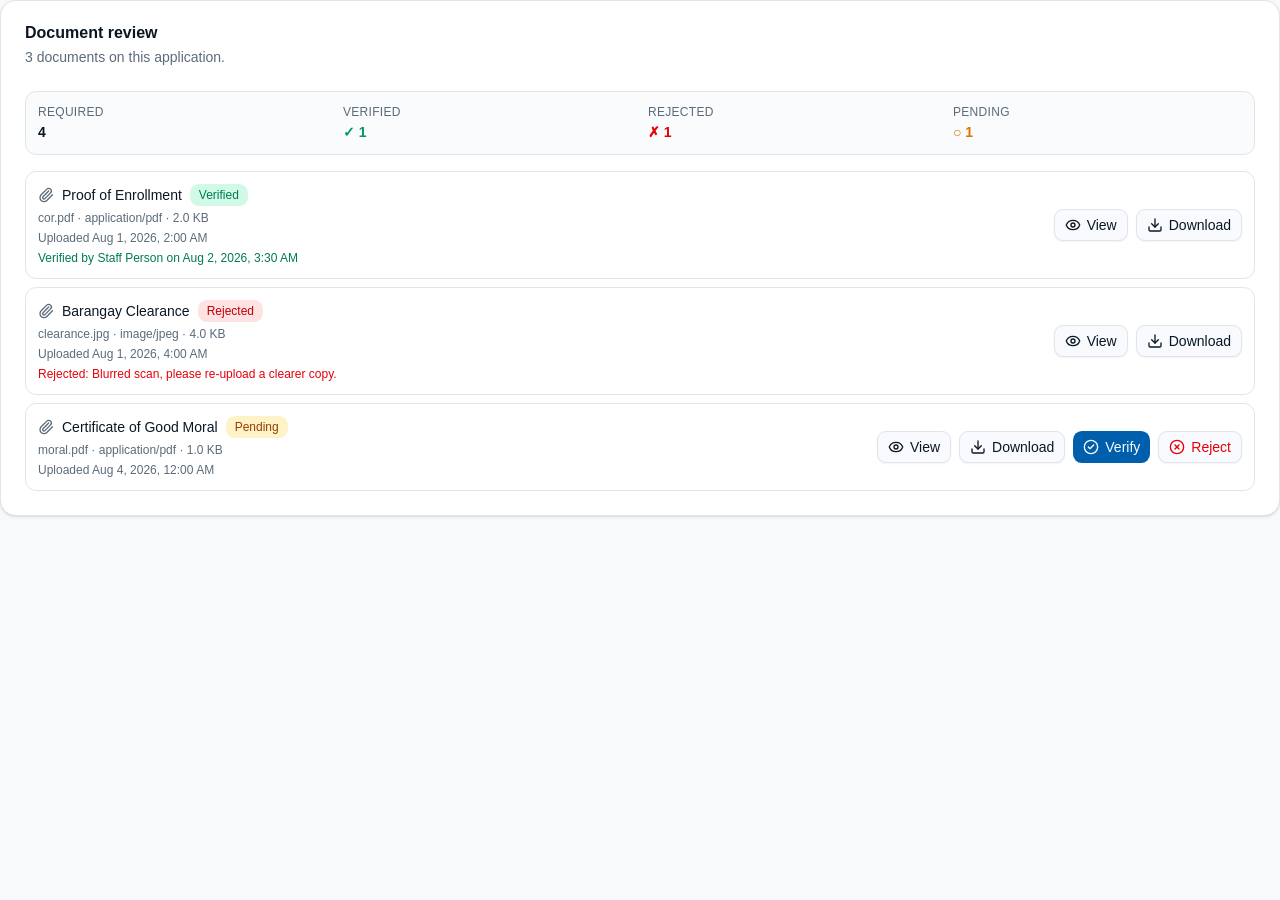
Test: DocumentReview › verify flow › verifies a document and reloads
Click the button "Verify" at (1112, 447), box [1073,431,1150,463]
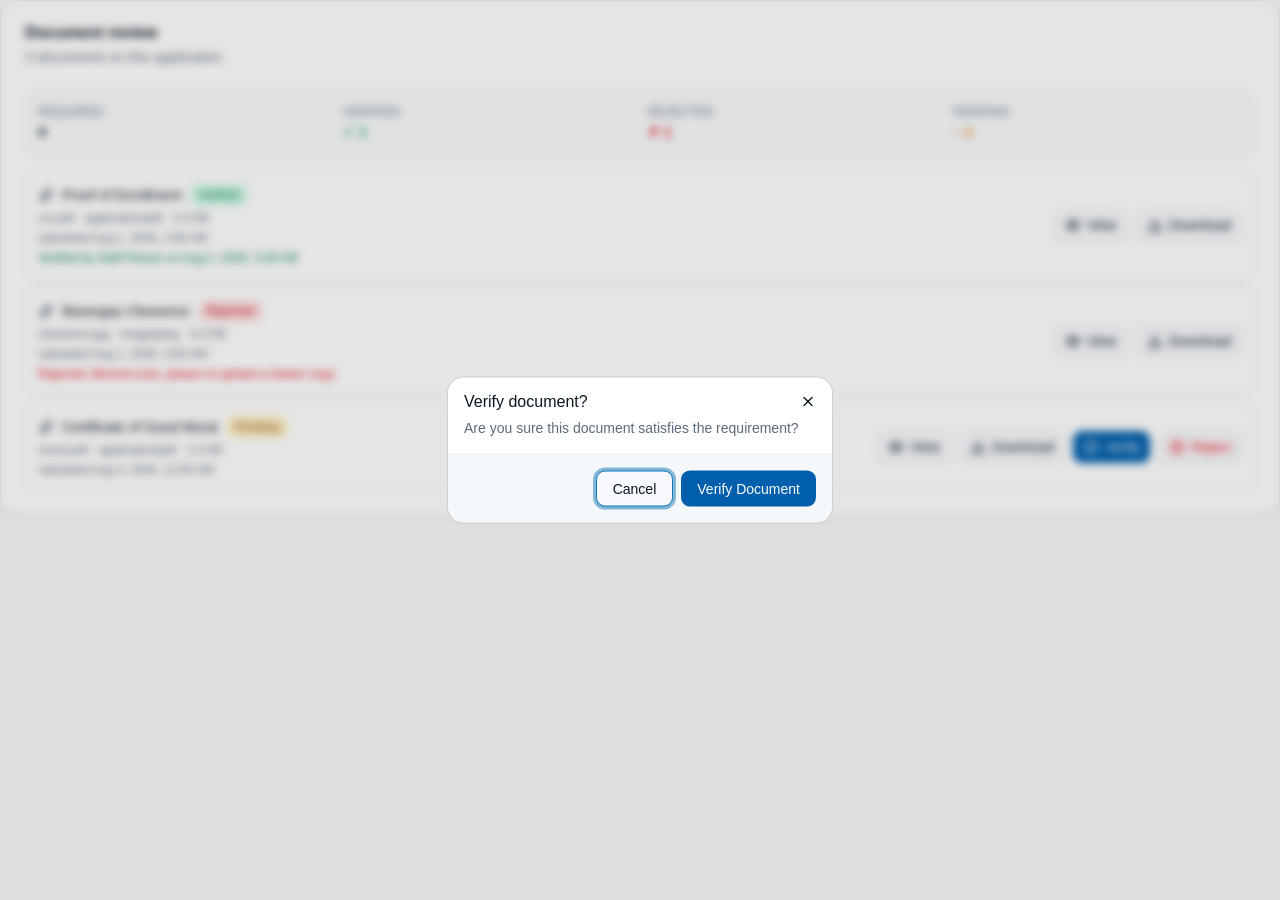
Check: the heading "Verify document?" is shown, box [464,392,588,410]
Click the button "Verify Document" at (749, 488), box [681,470,816,506]
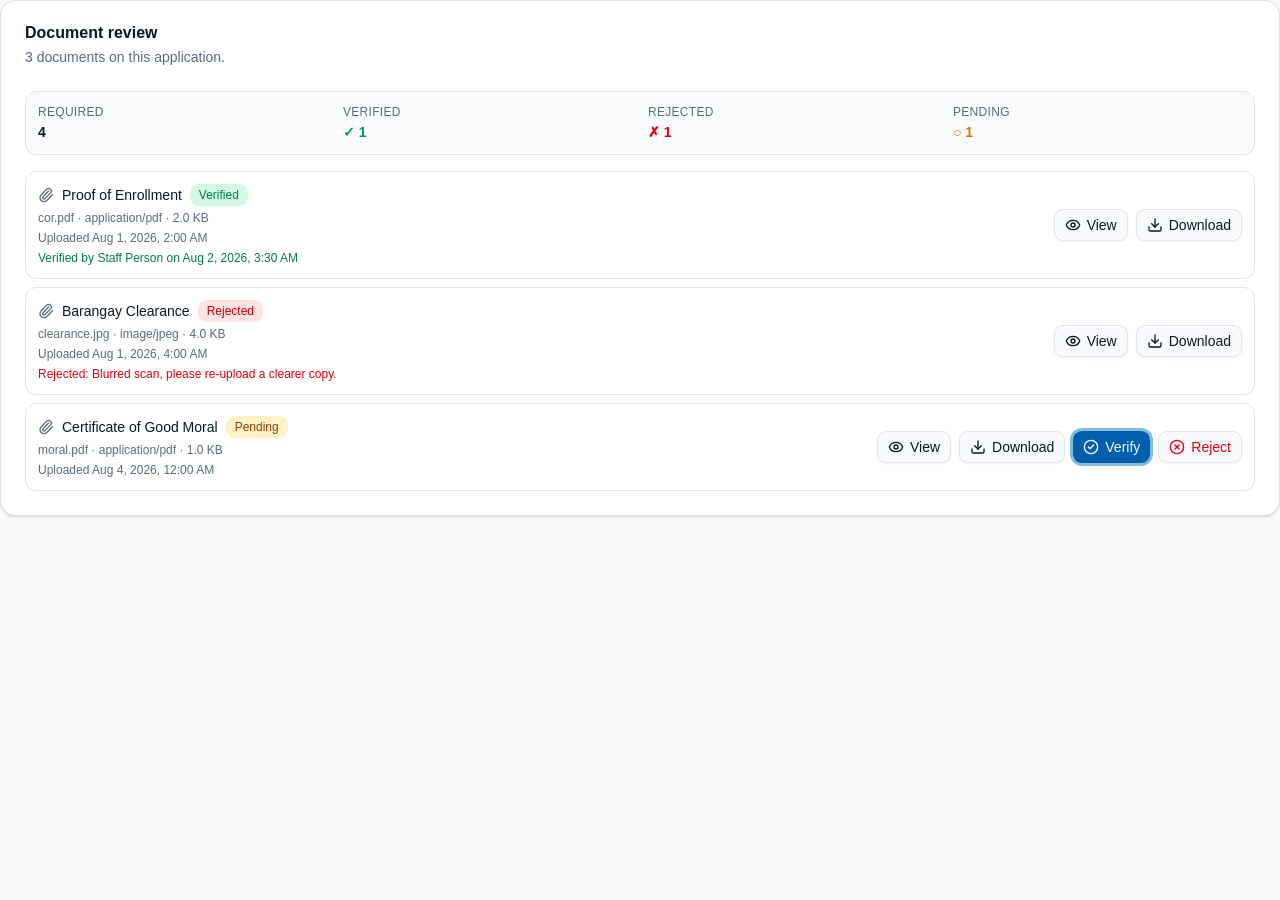
Check: the dialog is gone
